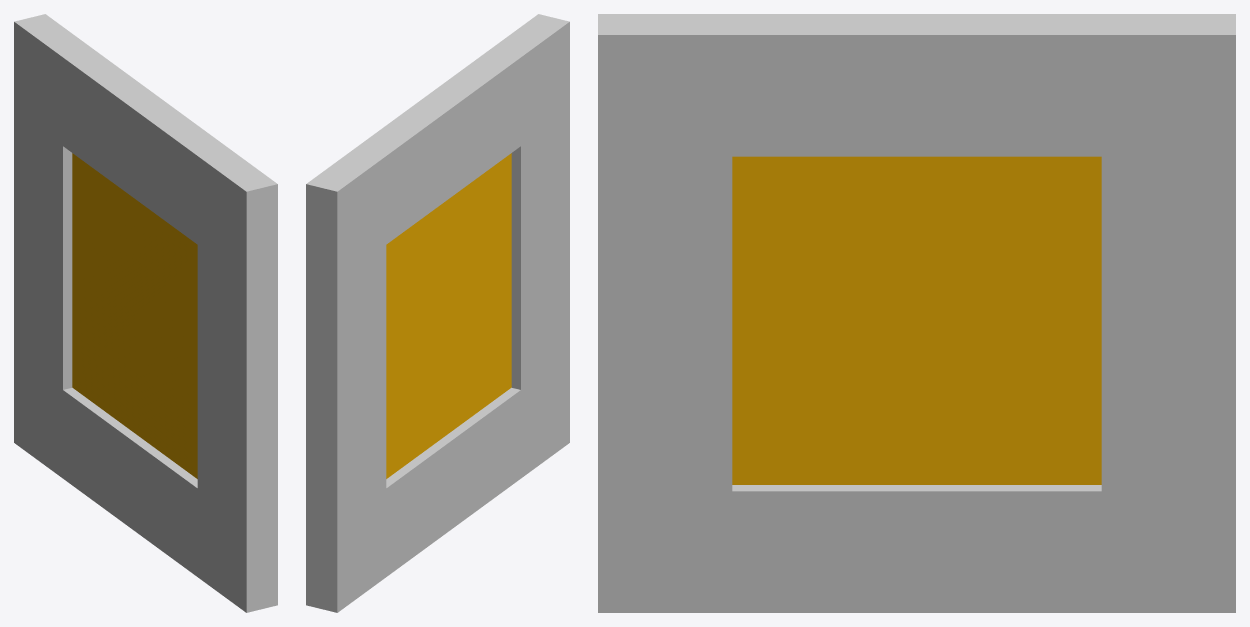
File: ConveyorHatch.fbx
The picture shows the model from 3 angles, left to right: view 1: azimuth 30°, elevation 25°; view 2: azimuth 150°, elevation 25°; view 3: azimuth 270°, elevation 25°; orthographic projection. The views are drawn at different scales.
Parts seen in each view (by area): view 1: Box001; view 2: Box001; view 3: Box001.
Part boxes in pixels (x1,y1,x2,y2): Box001: [14, 14, 277, 612]; Box001: [306, 14, 569, 612]; Box001: [598, 14, 1235, 612].
Bounding box in the file's own units: 4.68 × 60 × 60.
